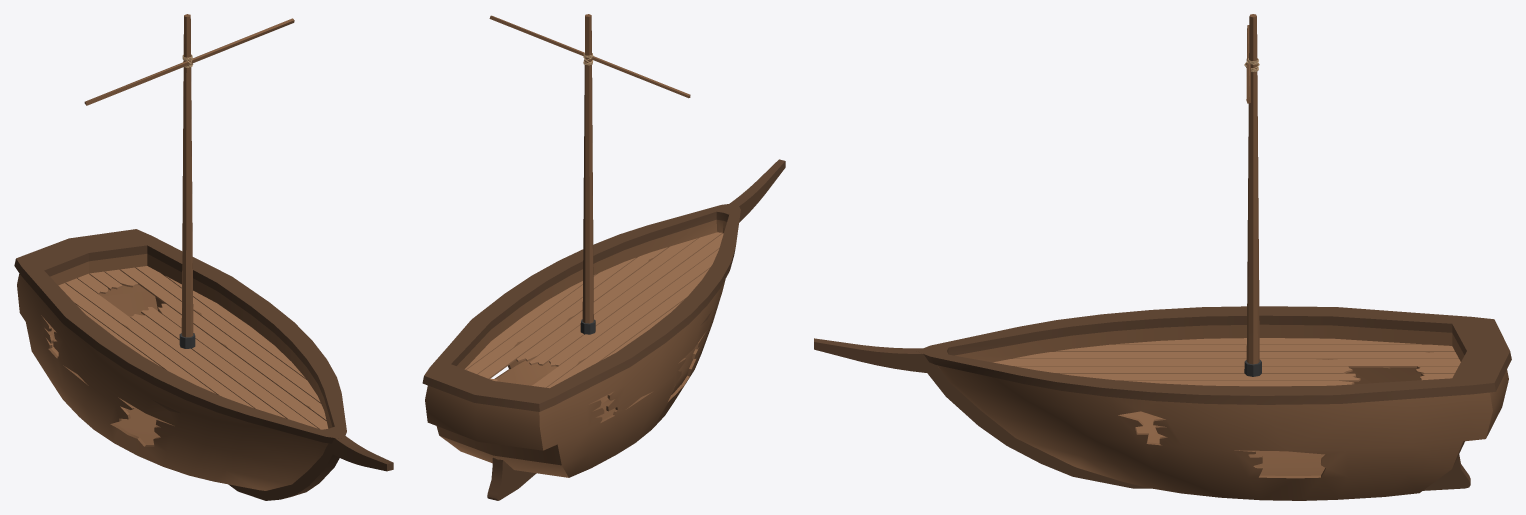
File: ShipPart_01.fbx
3 views of the same model, side by side, from view 1: azimuth 30°, elevation 25°; view 2: azimuth 150°, elevation 25°; view 3: azimuth 270°, elevation 25° (orthographic). The views are drawn at different scales.
Visible parts, largest first — view 1: ShipPart_01_LOD0; view 2: ShipPart_01_LOD0; view 3: ShipPart_01_LOD0.
Part boxes in pixels (x1,y1,x2,y2): ShipPart_01_LOD0: (14, 14, 393, 500); ShipPart_01_LOD0: (422, 14, 785, 500); ShipPart_01_LOD0: (814, 14, 1511, 500).
Size of what is drawn, in the model's own units: 4.21 by 8.42 by 11.28.
